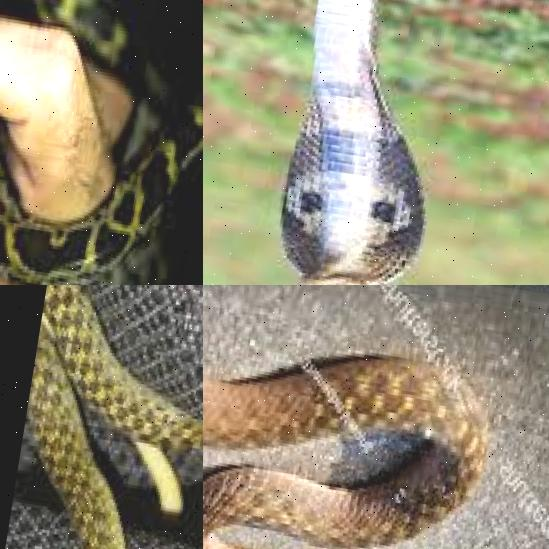snake: (203, 285, 519, 549), (203, 0, 479, 285), (0, 0, 203, 285), (0, 285, 203, 549)
